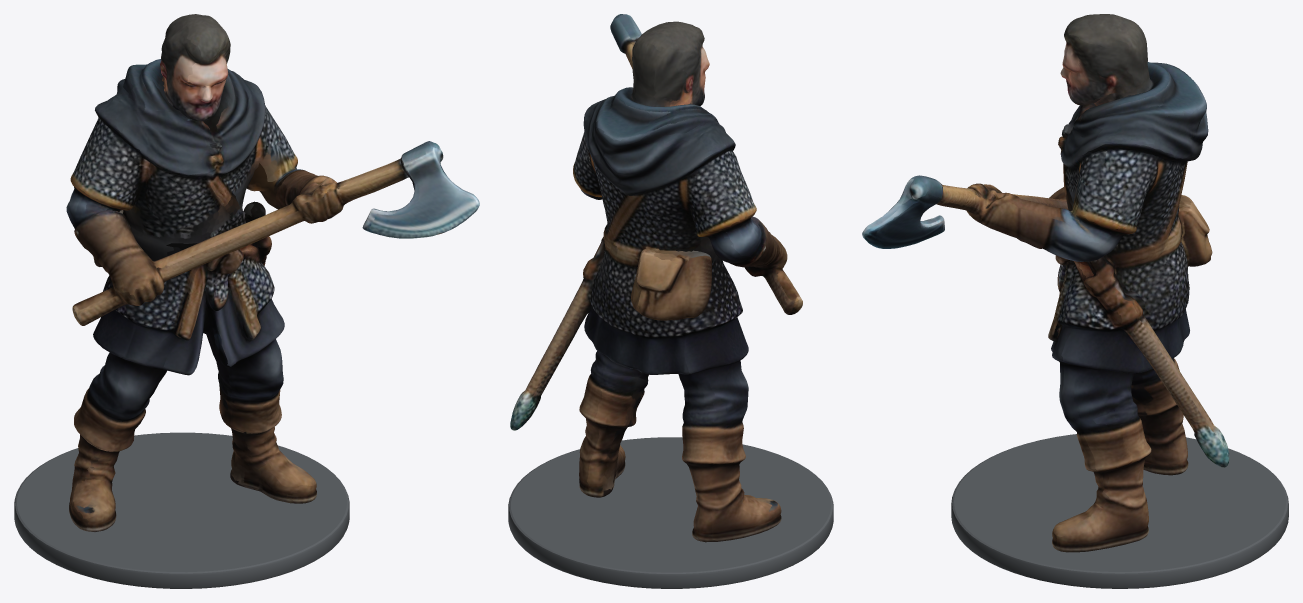
The model's file is bandit-chief.glb.
3 views of the same model, side by side, from view 1: azimuth 30°, elevation 25°; view 2: azimuth 150°, elevation 25°; view 3: azimuth 270°, elevation 25° (orthographic). The views are drawn at different scales.
Parts seen in each view (by area): view 1: bandit-chief_body, bandit-chief_round_base; view 2: bandit-chief_body, bandit-chief_round_base; view 3: bandit-chief_body, bandit-chief_round_base.
Boxes of the visible parts, x1,y1,x2,y2 form: bandit-chief_body: (66, 14, 479, 531); bandit-chief_round_base: (14, 432, 349, 588); bandit-chief_body: (510, 14, 802, 542); bandit-chief_round_base: (508, 437, 833, 588); bandit-chief_body: (862, 14, 1229, 552); bandit-chief_round_base: (951, 434, 1288, 588).
Size of the model in its own units: 1.09 by 1.65 by 1.26.
Materials: 2 (1 with a texture image).
